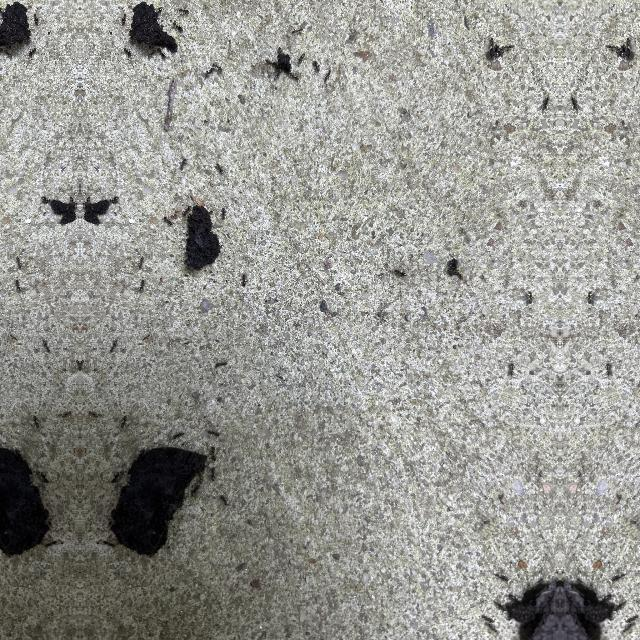Tapinoma: (202, 64, 218, 80), (480, 613, 496, 627), (624, 613, 640, 627), (210, 59, 224, 73), (290, 24, 306, 36), (494, 570, 510, 582), (498, 40, 514, 52), (490, 599, 506, 611), (482, 622, 498, 634), (610, 570, 626, 582), (606, 40, 622, 52), (614, 599, 630, 611), (622, 622, 638, 634), (108, 338, 118, 356), (542, 94, 552, 112), (42, 338, 52, 356), (568, 94, 578, 112), (120, 414, 130, 431), (30, 414, 40, 431), (206, 426, 220, 438), (214, 162, 226, 176), (173, 20, 185, 34), (322, 68, 332, 84), (136, 277, 146, 293), (219, 492, 229, 508), (277, 45, 287, 61), (14, 277, 24, 293), (178, 4, 190, 16), (209, 445, 217, 463), (287, 70, 299, 82), (526, 288, 534, 306), (265, 58, 277, 70), (508, 592, 520, 604), (586, 288, 594, 306), (600, 592, 612, 604), (214, 358, 228, 368), (295, 52, 305, 66), (86, 410, 100, 420), (110, 469, 120, 483), (123, 44, 133, 58), (178, 158, 188, 172), (190, 484, 200, 498), (394, 266, 408, 276), (506, 361, 516, 375), (60, 410, 74, 420), (40, 469, 50, 483), (27, 44, 37, 58), (604, 361, 614, 375), (108, 192, 119, 204), (312, 59, 322, 72), (182, 205, 192, 218), (158, 46, 168, 59), (136, 257, 144, 273), (218, 204, 226, 220), (148, 44, 156, 60), (16, 257, 24, 273), (4, 44, 12, 60), (162, 214, 172, 226), (173, 429, 185, 439), (152, 4, 162, 16), (272, 68, 282, 80), (42, 192, 52, 204), (239, 274, 247, 288), (120, 10, 128, 24), (32, 10, 40, 24), (210, 466, 217, 480), (0, 2, 6, 15)
